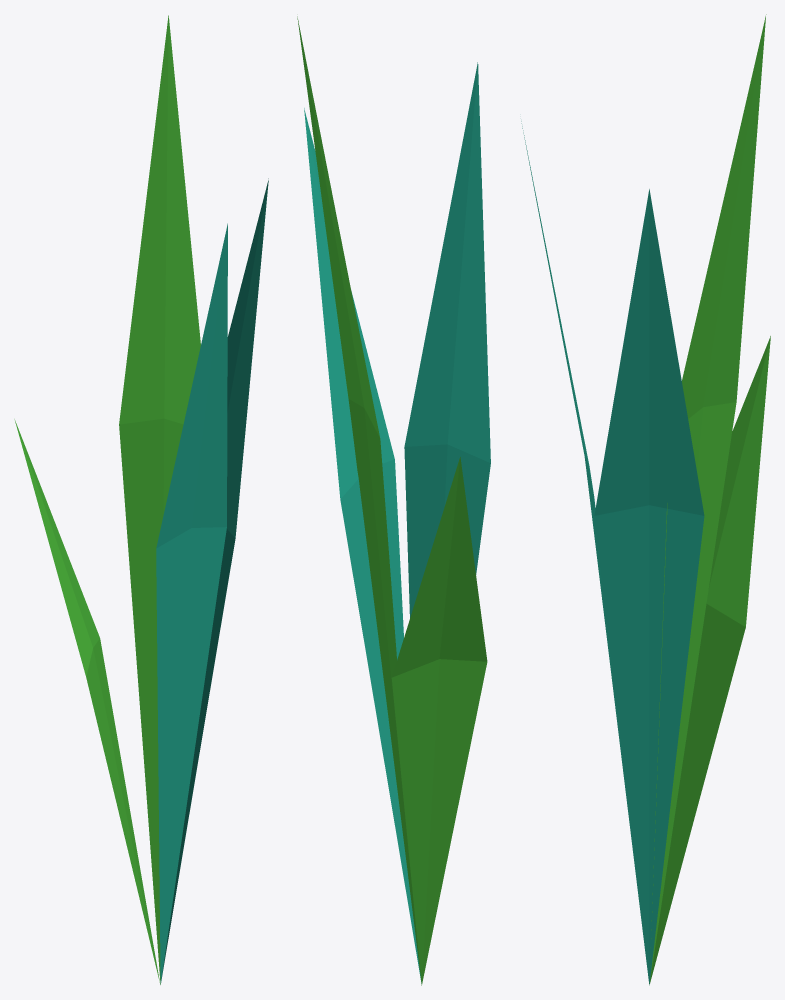
Rendered from aq_kelp_a.fbx.
3 renders of one model, left to right at view 1: azimuth 30°, elevation 25°; view 2: azimuth 150°, elevation 25°; view 3: azimuth 270°, elevation 25°, orthographic. The views are drawn at different scales.
Parts seen in each view (by area): view 1: aq_kelp_a; view 2: aq_kelp_a; view 3: aq_kelp_a.
Boxes of the visible parts, x1,y1,x2,y2 form: aq_kelp_a: [14, 15, 268, 984]; aq_kelp_a: [297, 16, 490, 985]; aq_kelp_a: [521, 14, 770, 985].
Size of the model in its own units: 0.5 by 2.2 by 0.5.
